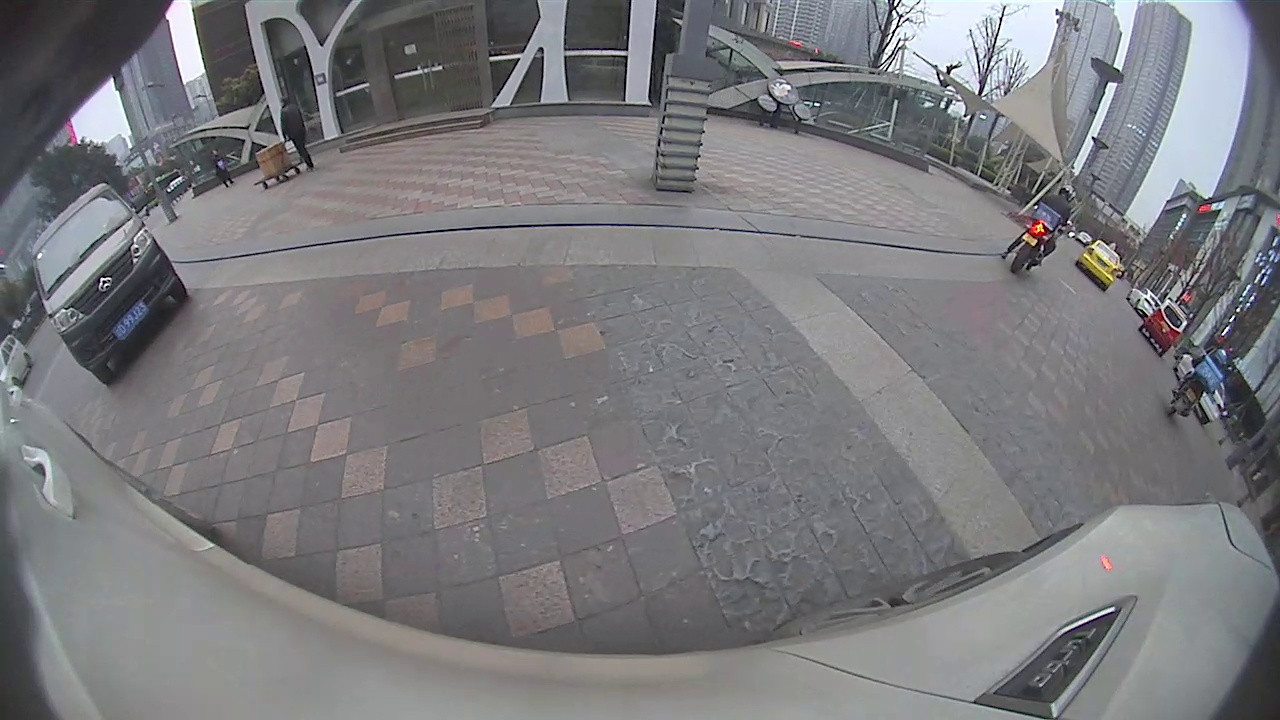car: (29, 182, 186, 385), (1137, 297, 1190, 357), (1071, 238, 1121, 290)
person: (278, 94, 315, 174)
rider: (997, 182, 1075, 273), (1163, 346, 1228, 419)
